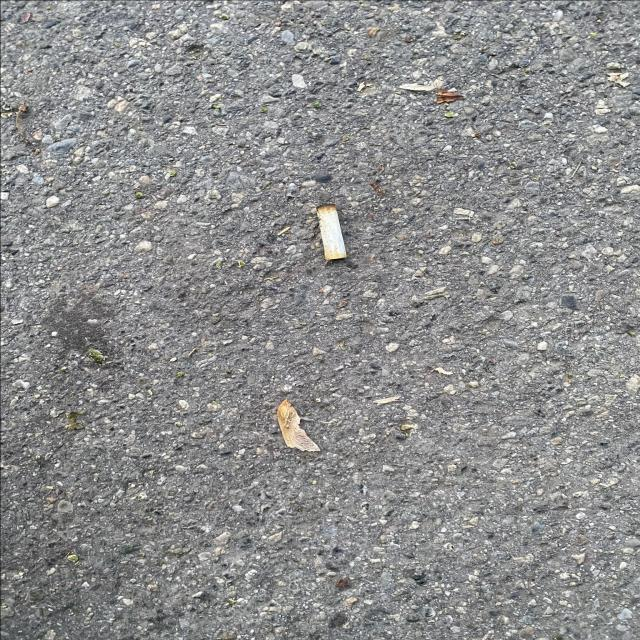other waste: (315, 203, 347, 260)
